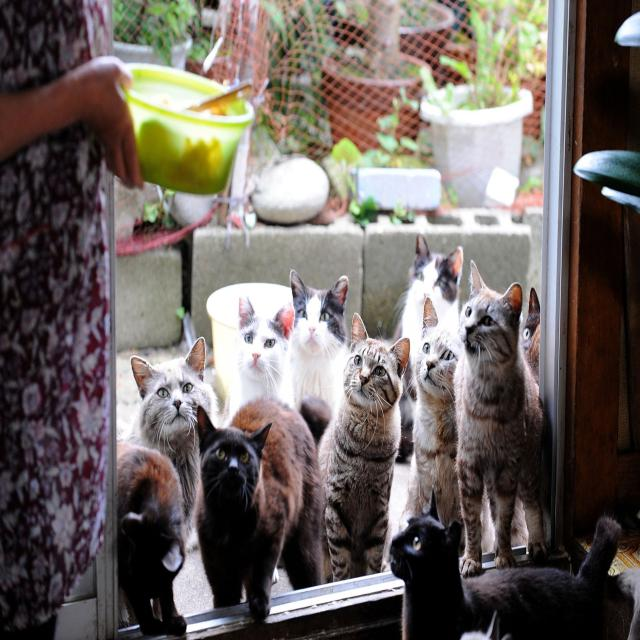cat: (390, 494, 620, 639), (195, 397, 331, 620), (454, 263, 548, 576), (319, 314, 410, 580), (122, 338, 219, 545), (394, 235, 464, 461), (401, 299, 462, 525), (118, 444, 186, 635), (225, 297, 295, 424), (290, 270, 349, 413), (481, 494, 495, 551), (511, 501, 528, 545)
